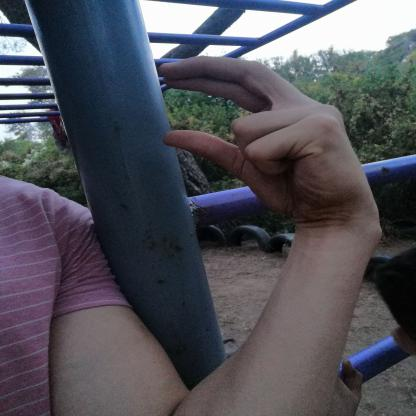DHELL: (140, 44, 395, 234)
